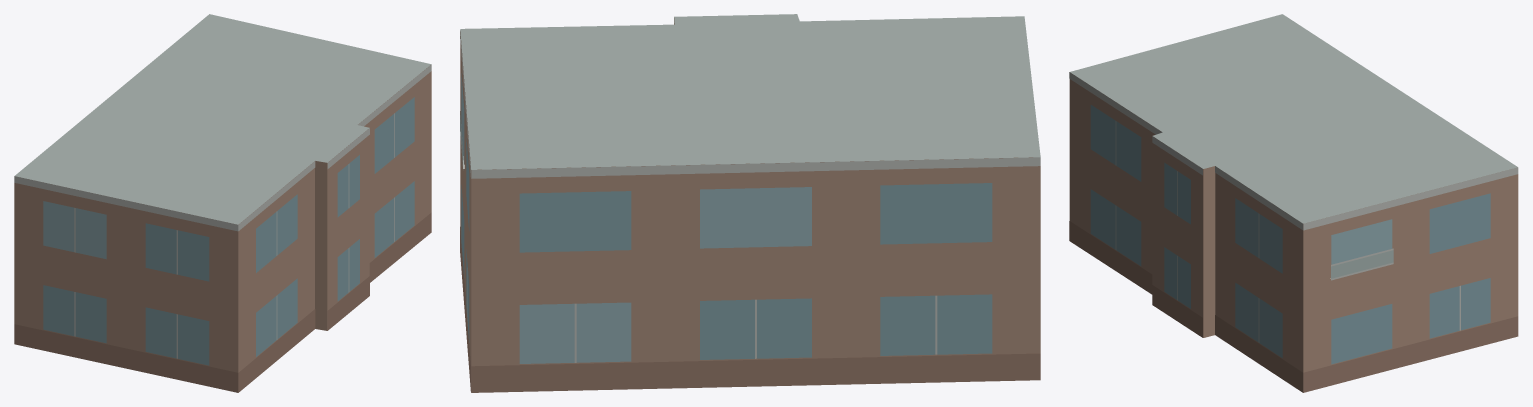
File: survey-upis-32623864.glb
3 renders of one model, left to right at view 1: azimuth 30°, elevation 25°; view 2: azimuth 150°, elevation 25°; view 3: azimuth 270°, elevation 25°, orthographic. The views are drawn at different scales.
Visible parts, largest first — view 1: survey-upis-32623864.tmp; view 2: survey-upis-32623864.tmp; view 3: survey-upis-32623864.tmp.
Part boxes in pixels (left/top/right/bottom): survey-upis-32623864.tmp: left=14, top=14, right=431, bottom=392; survey-upis-32623864.tmp: left=460, top=14, right=1040, bottom=392; survey-upis-32623864.tmp: left=1069, top=14, right=1518, bottom=392.
Size of the model in its own units: 16.24 by 6.1 by 14.68.
